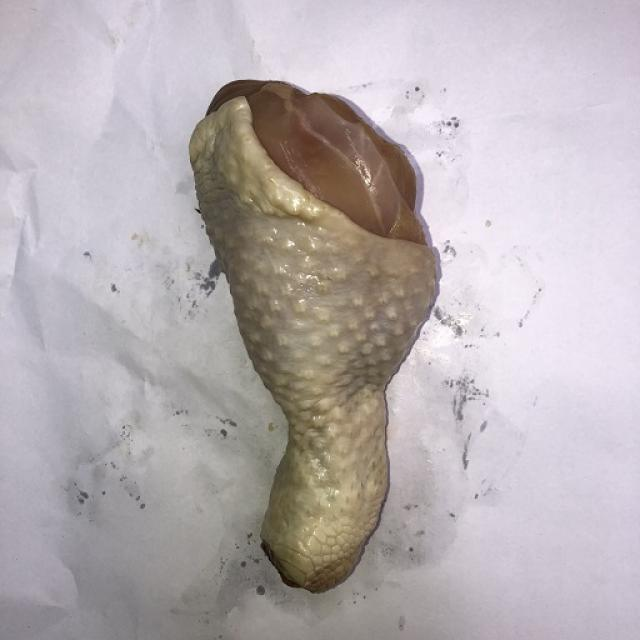chicken: (135, 59, 483, 610)
